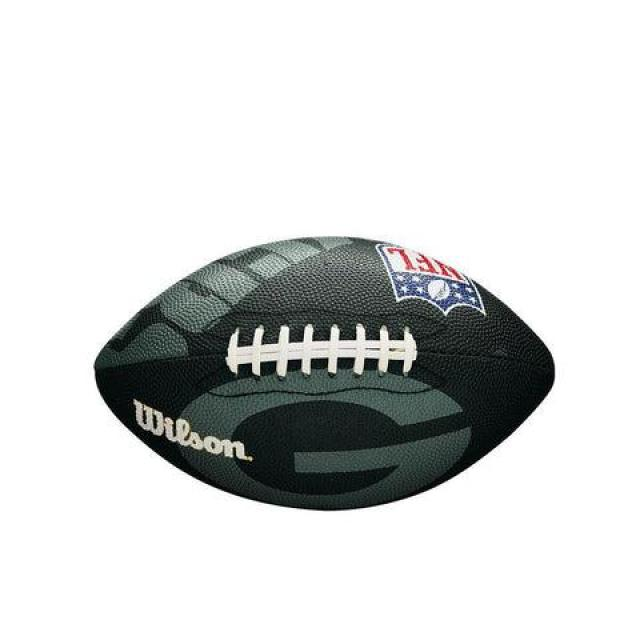ball: (86, 231, 564, 517)
